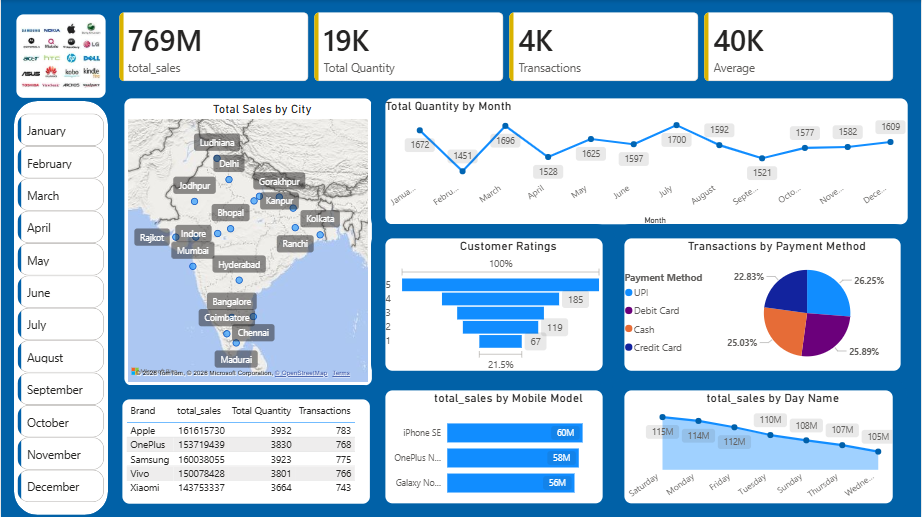

The dashboard page shown, as its layout file describes it:
{"tool":"powerbi","page":{"name":"Page 1","canvas":[1280,720],"ordinal":0},"visuals":[{"type":"image","box":[1.4,0,164,155.7],"z":0},{"type":"shape","box":[18.1,140.4,130.7,575.4],"z":1000},{"type":"advancedSlicerVisual","fields":{"Values":["Sheet1.Date.Variation.Date Hierarchy.Month"]},"box":[18.1,152.9,130.7,550.4],"z":2000},{"type":"cardVisual","fields":{"Data":["Sheet1.total_sales","Sheet1.Total Quantity","Sheet1.Transactions","Sheet1.Transisations"]},"box":[147.3,0,1112,130.7],"z":3000},{"type":"map","title":"Total Sales by City","fields":{"Category":["Sheet1.City"]},"box":[151.5,116.8,383.6,439.2],"z":4000},{"type":"lineChart","fields":{"Category":["Sheet1.Date.Variation.Date Hierarchy.Month","Sheet1.Date.Variation.Date Hierarchy.Day","Sheet1.Date.Variation.Date Hierarchy.Day"],"Y":["Sheet1.Total Quantity"]},"box":[514.3,116.8,765.9,215.4],"z":5000},{"type":"clusteredBarChart","fields":{"Category":["Sheet1.Mobile Model"],"Y":["Sheet1.total_sales"]},"box":[514.3,522.6,341.9,197.4],"z":6000},{"type":"pieChart","fields":{"Category":["Sheet1.Payment Method"],"Y":["Sheet1.Transactions"]},"box":[846.5,311.4,423.9,223.8],"z":7000},{"type":"funnel","title":" Customer Ratings","fields":{"Category":["Sheet1.Customer Ratings"],"Y":["CountNonNull(Sheet1.Customer Ratings)"]},"box":[514.3,311.4,341.9,223.8],"z":8000},{"type":"areaChart","fields":{"Category":["Sheet1.Day Name"],"Y":["Sheet1.total_sales"]},"box":[846.5,522.6,412.8,197.4],"z":9000},{"type":"tableEx","fields":{"Values":["Sheet1.Brand","Sheet1.total_sales","Sheet1.Total Quantity","Sheet1.Transactions"]},"box":[148.7,535.1,383.6,184.9],"z":10000}]}

Visuals, with their boxes in screenshot pixels (x1, y1, x2, y2), scaled from the page's 1280x720 canvas onto the 922x517 screenshot:
image: 1, 0, 119, 112
shape: 13, 101, 107, 514
advancedSlicerVisual - Sheet1.Date.Variation.Date Hierarchy.Month: 13, 110, 107, 505
cardVisual - Sheet1.total_sales x Sheet1.Total Quantity: 106, 0, 907, 94
"Total Sales by City" map: 109, 84, 385, 399
lineChart - Sheet1.Date.Variation.Date Hierarchy.Month x Sheet1.Date.Variation.Date Hierarchy.Day: 370, 84, 921, 239
clusteredBarChart - Sheet1.Mobile Model x Sheet1.total_sales: 370, 375, 617, 516
pieChart - Sheet1.Payment Method x Sheet1.Transactions: 610, 224, 915, 384
" Customer Ratings" funnel: 370, 224, 617, 384
areaChart - Sheet1.Day Name x Sheet1.total_sales: 610, 375, 907, 516
tableEx - Sheet1.Brand x Sheet1.total_sales: 107, 384, 383, 516
